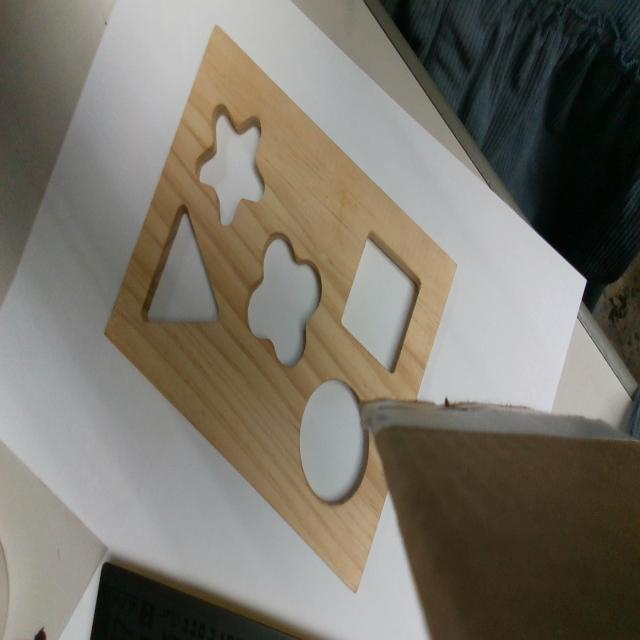circle: (300, 380, 368, 503)
flower: (249, 237, 320, 363)
square: (339, 229, 423, 375)
star: (193, 107, 266, 226)
triangle: (140, 203, 221, 325)
